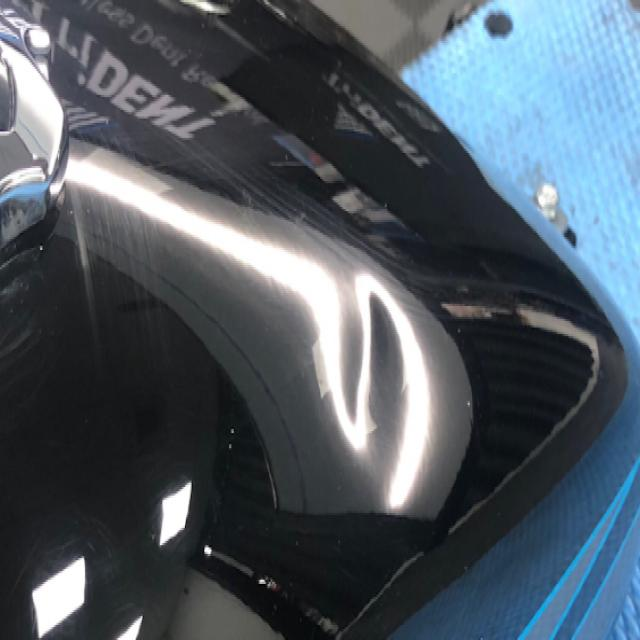dents: (314, 283, 450, 476)
